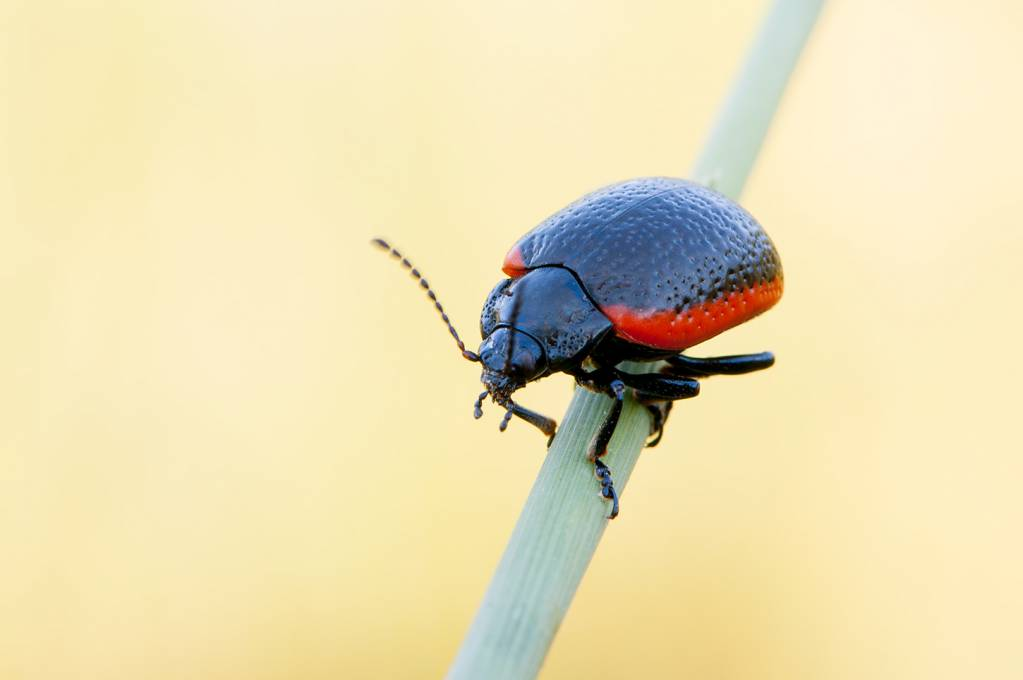Chrysolina_gypsophila: (366, 167, 788, 523)
